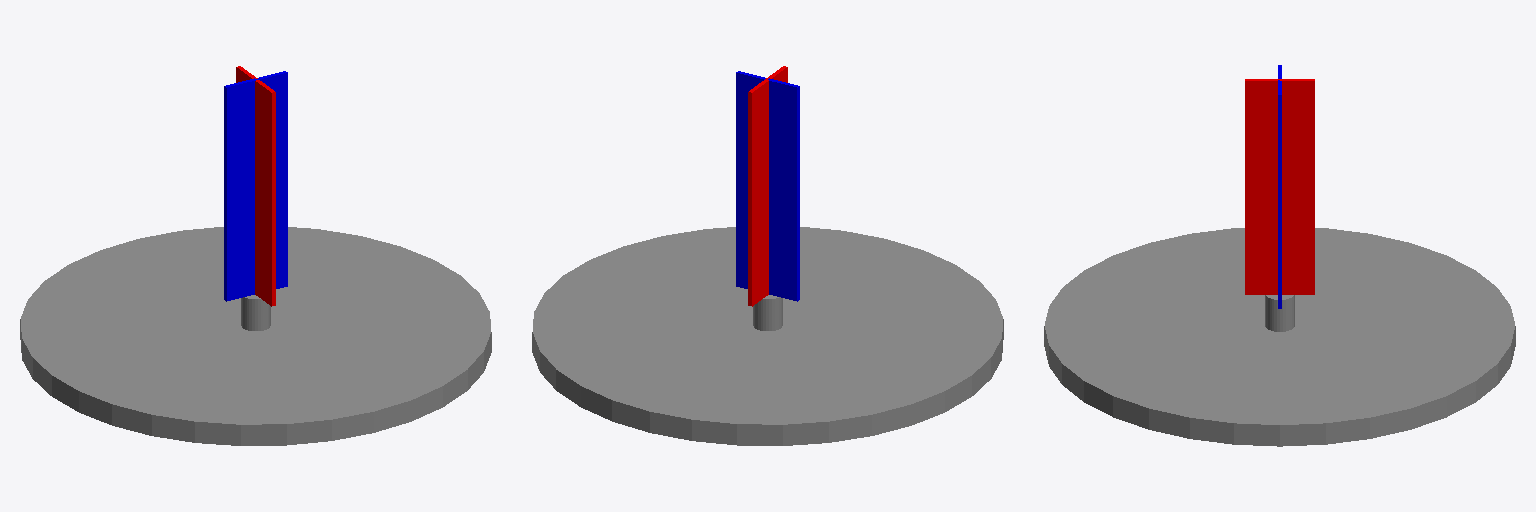
URDF robot description (screwdriver):
<?xml version="1.0"?>
<robot name="screwdriver">

  <!-- ========== BASE (wide cylinder) ========== -->
  <link name="base">
    <visual>
      <origin xyz="0 0 0" />
      <geometry>
        <cylinder radius="0.1" length="0.01" />
      </geometry>
      <material name="base_material">
        <color rgba="0.6 0.6 0.6 1" />
      </material>
    </visual>
    <collision>
      <origin xyz="0 0 0" />
      <geometry>
        <cylinder radius="0.1" length="0.01" />
      </geometry>
    </collision>
    <inertial>
      <mass value="10.0" />
      <origin xyz="0 0 0" />
      <inertia ixx="0.02508" ixy="0.0" ixz="0.0" iyy="0.02508" iyz="0.0" izz="0.05" />
    </inertial>
  </link>

  <!-- ========== HANDLE (upper, orange) ========== -->
  <link name="handle">
    <visual>
      <origin xyz="0 0 0.01" />
      <geometry>
        <mesh filename="../meshes/screw_upper_12.stl" />
      </geometry>
      <material name="handle_orange">
        <color rgba="0.8 0.4 0.2 1"/>
      </material>
    </visual>
    <collision>
      <origin xyz="0 0 0.01" />
      <geometry>
        <mesh filename="../meshes/screw_upper_12.stl" />
      </geometry>
    </collision>
    <inertial>
      <origin xyz="0 0 0.01" />
      <mass value="0.05595962"/>
      <inertia ixx="0.0000442722195" ixy="0" ixz="0"
               iyy="0.0000442722195" iyz="0"
               izz="0.00000437184525"/>
    </inertial>
    <!-- Red stripe on nut -->
    <visual>
      <origin xyz="0 0 0.06" rpy="0 0 0"/>
      <geometry>
        <!-- thin box wrapping around the cylinder -->
        <box size="0.002 0.03 0.1"/>
      </geometry>
      <material name="stripe_red">
        <color rgba="1 0 0 1"/>
      </material>
    </visual>

    <!-- Blue stripe on nut -->
    <visual>
      <origin xyz="0 0 0.06" rpy="0 0 1.5708"/>
      <geometry>
        <box size="0.002 0.03 0.1"/>
      </geometry>
      <material name="stripe_blue">
        <color rgba="0 0 1 1"/>
      </material>
    </visual>
  </link>

  <!-- ========== SHAFT (lower, gray) ========== -->
  <link name="shaft">
    <visual>
      <origin xyz="0 0 0.01" />
      <geometry>
        <cylinder radius="0.00625" length="0.02" />
      </geometry>
      <material name="shaft_gray">
        <color rgba="0.6 0.6 0.6 1"/>
      </material>
    </visual>
    <collision>
      <origin xyz="0 0 0.01" />
      <geometry>
        <cylinder radius="0.00625" length="0.02" />
      </geometry>
    </collision>
    <inertial>
      <origin xyz="0 0 0.05" />
      <mass value="0.01233075"/>
      <inertia ixx="0.00000659566742" ixy="0" ixz="0"
               iyy="0.00000659566742" iyz="0"
               izz="0.0000000385335974"/>
    </inertial>
  </link>

  <!-- Base–shaft connection (fixed) -->
  <joint name="base_to_shaft" type="fixed">
    <parent link="base" />
    <child  link="shaft" />
    <origin xyz="0 0 0" rpy="0 0 0" />
  </joint>

  <!-- Handle–shaft connection (revolute joint for training)-->
  <joint name="handle_to_shaft" type="revolute">
    <parent link="shaft"/>
    <child  link="handle"/>
    <origin xyz="0 0 0.01" rpy="0 0 0"/>
    <axis  xyz="0 0 -1" />
    <dynamics friction="0.2" damping="0.5"/>
    <limit lower="0.0" upper="628.3185" effort="2.0" velocity="6.2832" /> <!-- 100 rotations -->
  </joint>
</robot>

--- Render facts (derived) ---
The picture shows the robot from 3 angles, left to right: view 1: azimuth 30°, elevation 25°; view 2: azimuth 150°, elevation 25°; view 3: azimuth 270°, elevation 25°; orthographic projection.
Robot: screwdriver — 3 links, 2 joints (1 revolute, 1 fixed); root link base; default pose: all joints at 0.
Links seen in each view (by area): view 1: base, handle, shaft; view 2: base, handle, shaft; view 3: base, handle, shaft.
Boxes of the visible links, x1,y1,x2,y2 form: base: (20,227,491,445); handle: (224,66,287,306); shaft: (241,295,270,330); base: (532,227,1003,445); handle: (736,66,799,306); shaft: (753,295,782,330); base: (1044,228,1515,446); handle: (1245,65,1314,308); shaft: (1265,295,1294,331).
Size in the robot's own frame: 0.2 by 0.2 by 0.125 metres.
Meshes: 1 distinct files referenced, 0 mesh visuals loaded (none loaded); not drawn: 1 (reference not matched to a file when rendering).
